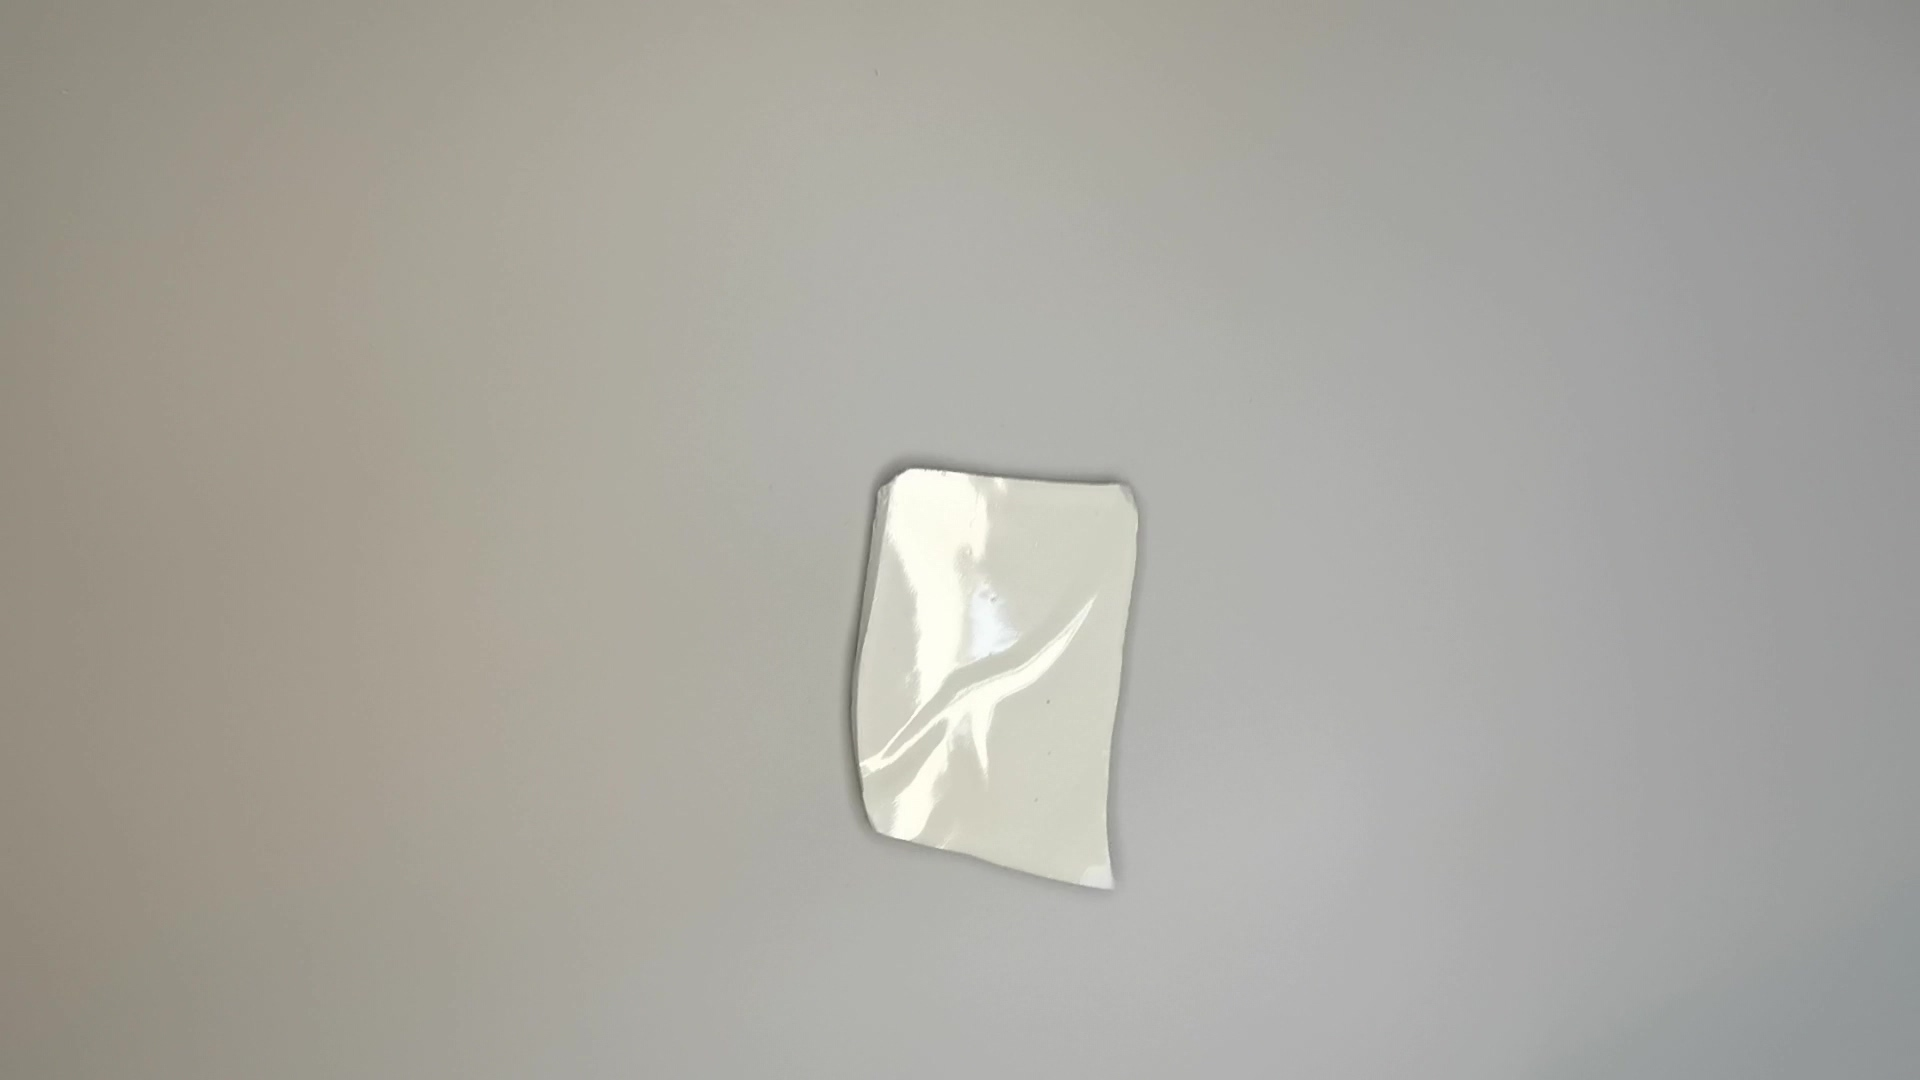ceramic: (844, 468, 1138, 905)
